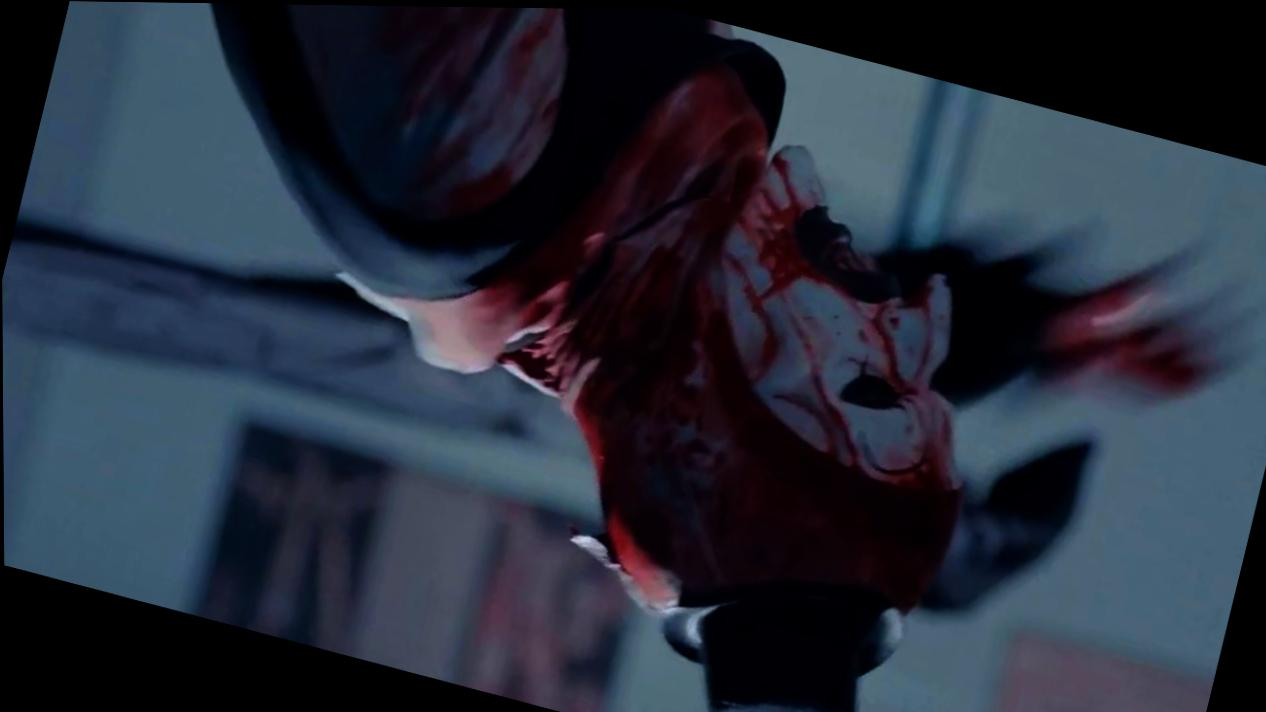Fire: (211, 2, 1235, 712)
